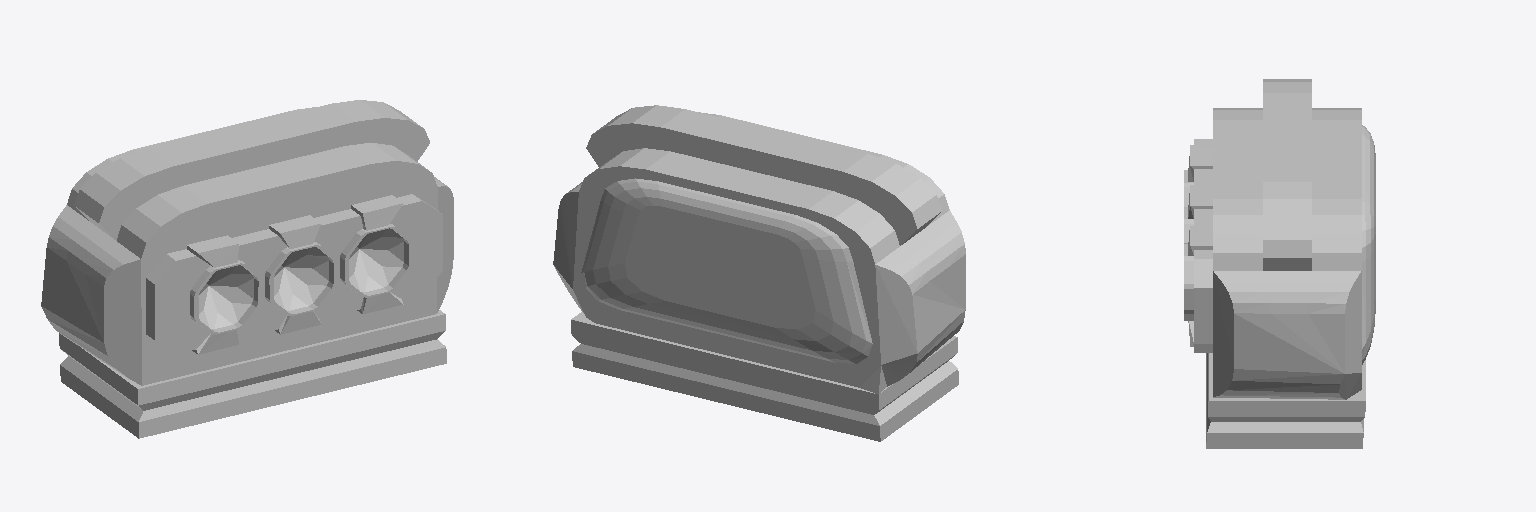
File: object_altar.obj
3 views of the same model, side by side, from view 1: azimuth 30°, elevation 25°; view 2: azimuth 150°, elevation 25°; view 3: azimuth 270°, elevation 25° (orthographic).
Parts seen in each view (by area): view 1: altar_Cube.002; view 2: altar_Cube.002; view 3: altar_Cube.002.
Part boxes in pixels (bbox=[...]): altar_Cube.002: bbox=[41, 100, 453, 438]; altar_Cube.002: bbox=[553, 105, 965, 441]; altar_Cube.002: bbox=[1184, 79, 1375, 448].
Size of the model in its own units: 8.16 by 5.06 by 3.7.